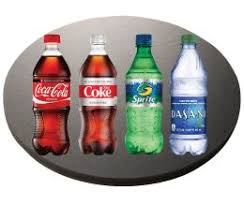coke: (28, 35, 120, 159)
